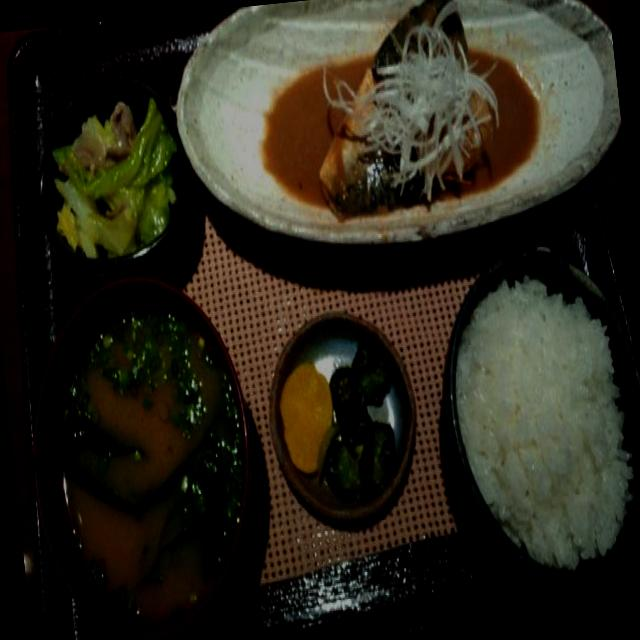Rice: (448, 265, 636, 575)
